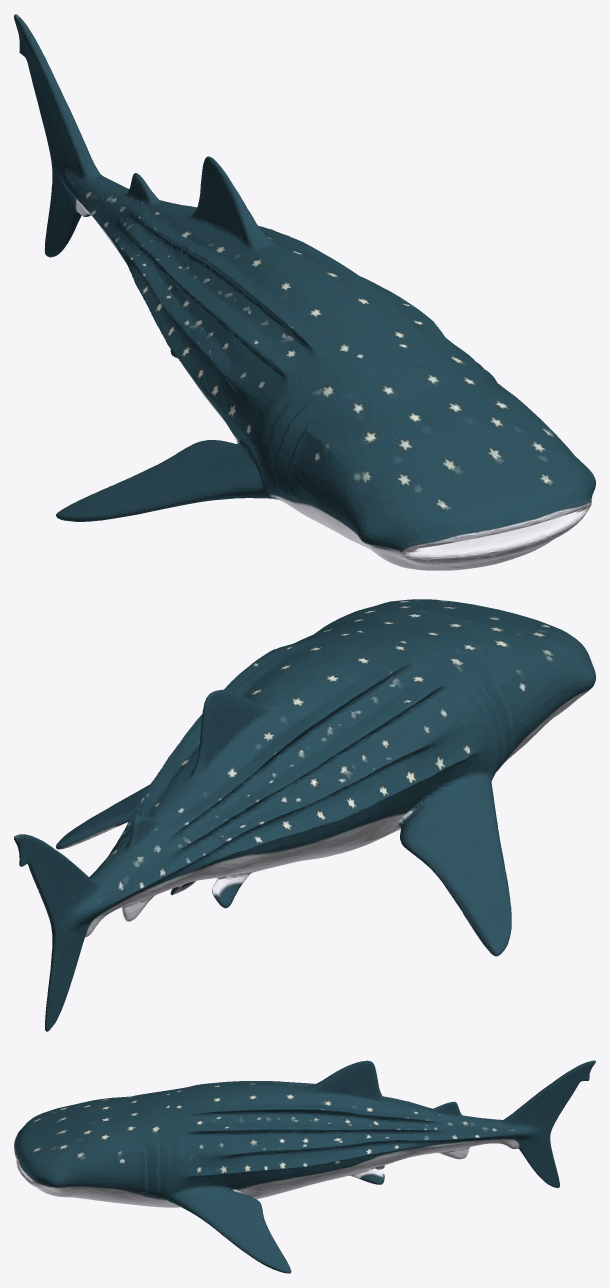
The model's file is meshy-whale-shark.glb.
The picture shows the model from 3 angles, top to bottom: view 1: azimuth 30°, elevation 25°; view 2: azimuth 150°, elevation 25°; view 3: azimuth 270°, elevation 25°; orthographic projection. The views are drawn at different scales.
Parts seen in each view (by area): view 1: mesh_node; view 2: mesh_node; view 3: mesh_node.
Part boxes in pixels (x1=…): mesh_node: x1=14, y1=14, x2=595, y2=570; mesh_node: x1=14, y1=599, x2=595, y2=1031; mesh_node: x1=14, y1=1060, x2=595, y2=1273.
Size of the model in its own units: 0.9747 by 0.5415 by 1.9.
Materials: 1 (1 with a texture image).
